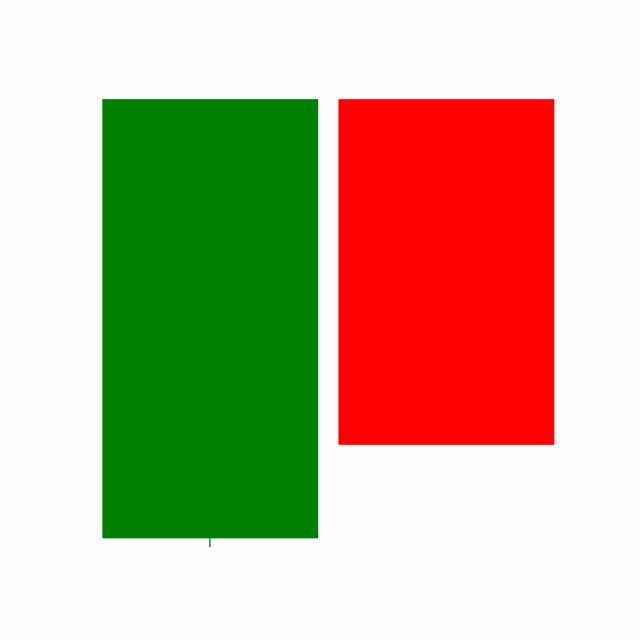Marubozu: (327, 95, 565, 449)
